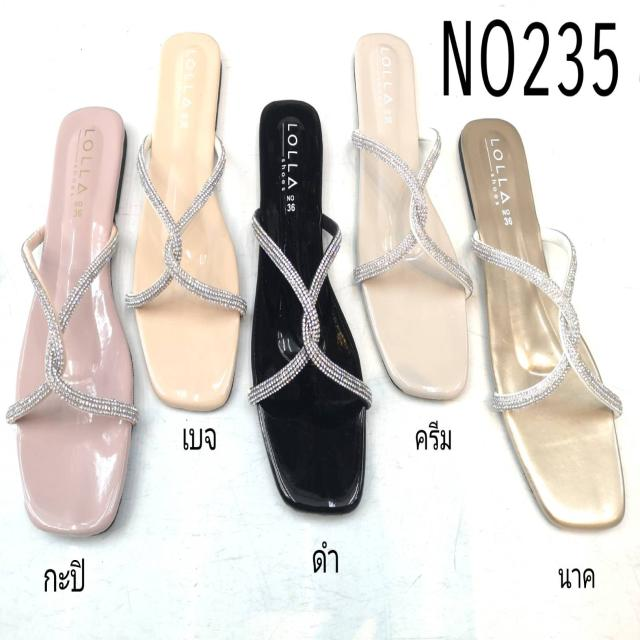bej: (137, 27, 240, 410)
black: (246, 100, 366, 503)
cream: (352, 37, 470, 399)
kapi: (17, 106, 130, 535)
nak: (459, 117, 626, 534)
